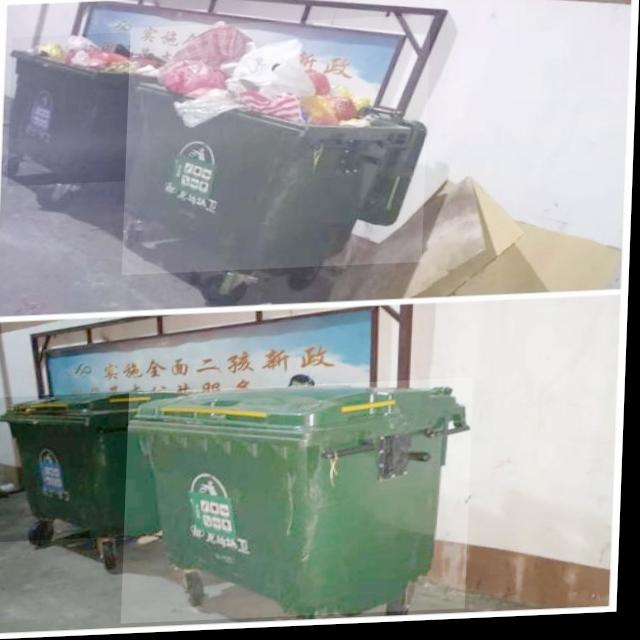garbage_bin: (126, 382, 476, 625), (0, 391, 187, 543)
overflow: (124, 19, 431, 277), (9, 32, 167, 186)
